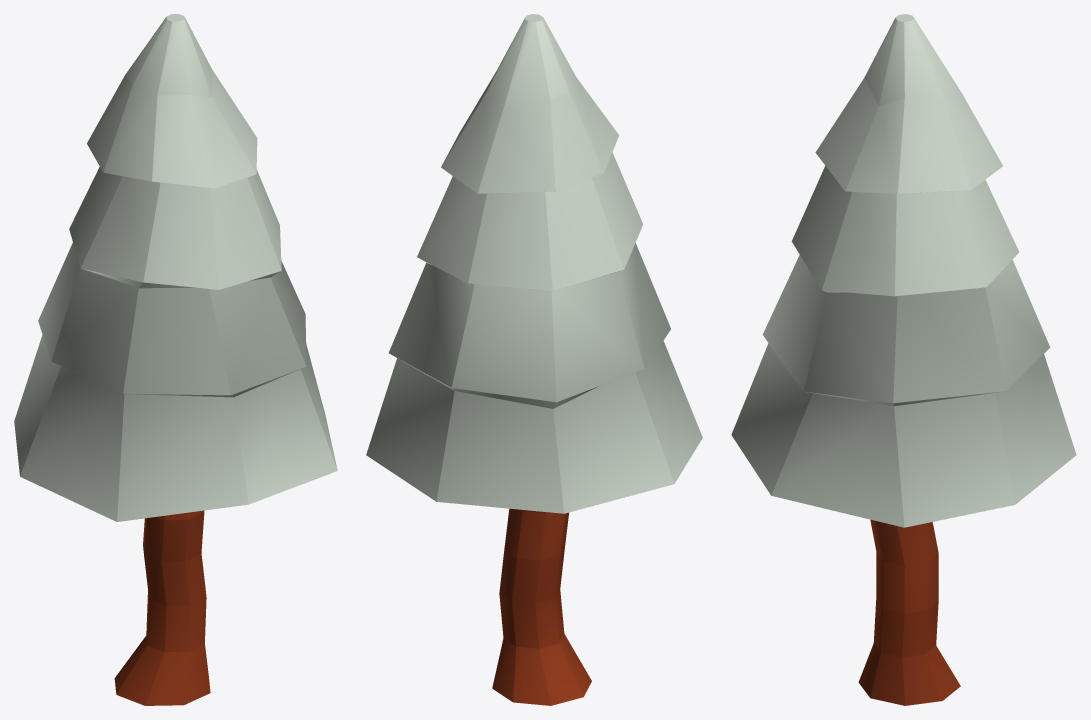
File: Neige_Sapin_v1_001.FBX
The picture shows the model from 3 angles, left to right: view 1: azimuth 30°, elevation 25°; view 2: azimuth 150°, elevation 25°; view 3: azimuth 270°, elevation 25°; orthographic projection.
Visible parts, largest first — view 1: Arbre129; view 2: Arbre129; view 3: Arbre129.
Boxes of the visible parts, x1,y1,x2,y2 form: Arbre129: [14, 14, 337, 705]; Arbre129: [366, 14, 702, 705]; Arbre129: [731, 14, 1076, 705].
Size of the model in its own units: 124 by 266 by 124.
